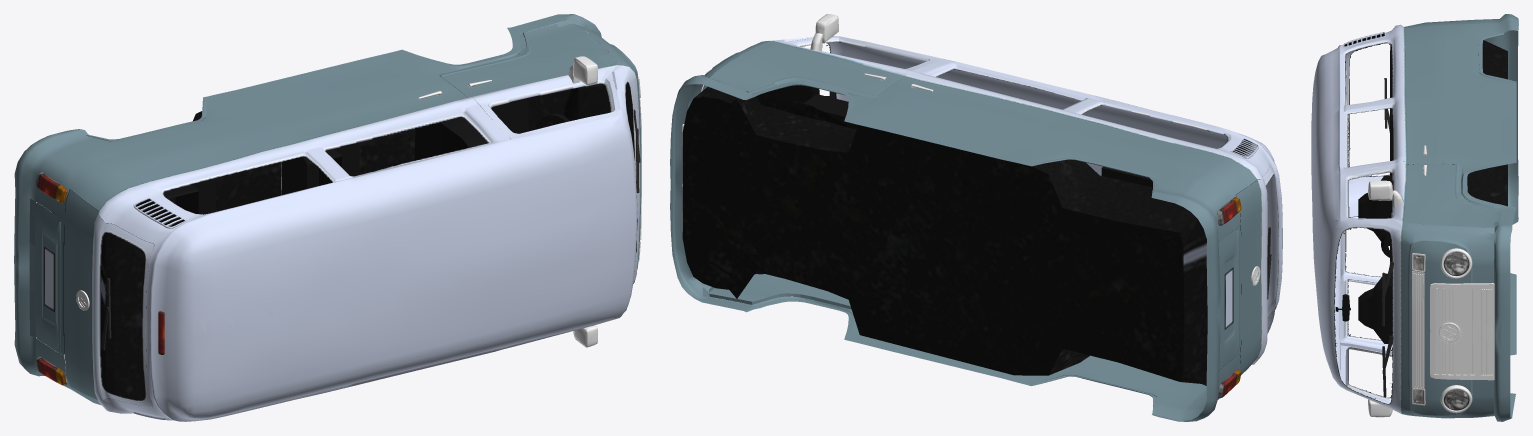
Rendered from van_chassis_lightgrey.obj.
3 renders of one model, left to right at view 1: azimuth 30°, elevation 25°; view 2: azimuth 150°, elevation 25°; view 3: azimuth 270°, elevation 25°, orthographic. The views are drawn at different scales.
Visible parts, largest first — view 1: Volks_Van_Chassis_0416; view 2: Volks_Van_Chassis_0416; view 3: Volks_Van_Chassis_0416.
Part boxes in pixels (left/top/right/bottom): Volks_Van_Chassis_0416: left=14, top=14, right=641, bottom=421; Volks_Van_Chassis_0416: left=670, top=14, right=1282, bottom=421; Volks_Van_Chassis_0416: left=1311, top=14, right=1518, bottom=421.
Size of the model in its own units: 4.8 by 2.22 by 1.79.
Materials: 2 (2 with a texture image).
